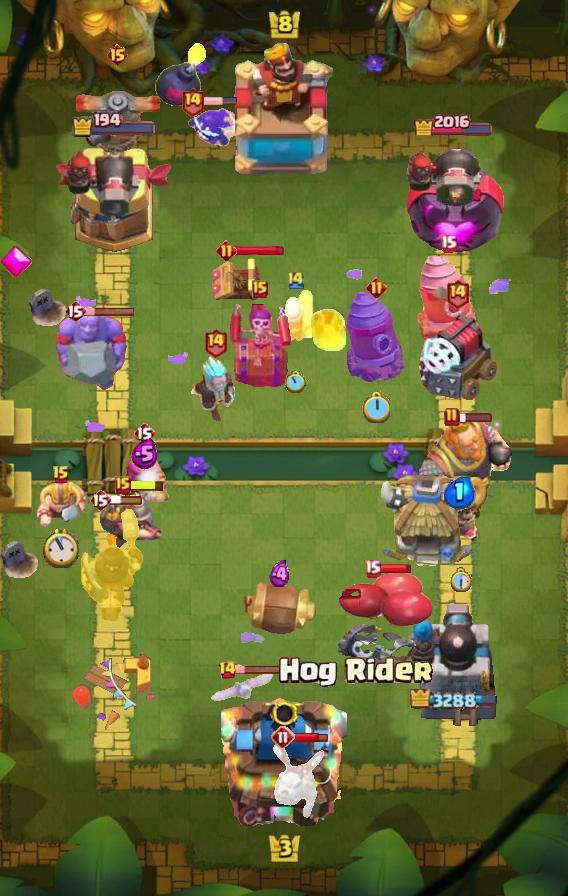archer-queen: (52, 310, 130, 392)
baby-dragon: (154, 40, 208, 108)
bandit: (98, 489, 178, 553)
barbarian: (208, 671, 276, 703)
bomber-evolution: (437, 493, 483, 545)
dark-prince: (72, 66, 162, 152)
electro-spirit: (444, 476, 476, 508), (130, 438, 157, 470), (269, 560, 291, 588)
elixir: (43, 528, 79, 568), (362, 391, 390, 423), (448, 567, 471, 593), (286, 371, 306, 393)
emote: (234, 244, 285, 257), (84, 306, 136, 317), (234, 665, 286, 676), (129, 480, 165, 493), (457, 411, 493, 423), (108, 494, 144, 506), (293, 731, 328, 743), (378, 563, 412, 574), (202, 96, 238, 106)
giant-skeleton: (412, 414, 520, 518)
goblin-brawler: (210, 254, 264, 304)
goblin-giant: (35, 480, 87, 528)
golem: (414, 311, 500, 401)
inferno-dragon: (79, 504, 145, 624)
king-tower: (221, 690, 347, 826), (228, 41, 340, 181)
magic-archer: (415, 251, 481, 349), (346, 290, 406, 384)
mini-pekka: (270, 739, 326, 821)
mortar: (185, 353, 245, 425)
prince: (376, 475, 478, 571)
royal-recruit-evolution: (334, 570, 436, 678)
selected: (71, 111, 157, 138), (411, 688, 498, 712), (414, 112, 495, 137)
skeleton-king-bar: (229, 301, 291, 387)
skeleton-king-skill: (0, 245, 32, 279)
spear-goblin: (186, 106, 236, 148)
text: (179, 86, 204, 117), (204, 326, 229, 357), (446, 279, 470, 309), (271, 725, 295, 749), (106, 43, 129, 67), (64, 299, 86, 323), (133, 421, 155, 445), (89, 488, 111, 512), (215, 239, 236, 261), (366, 278, 387, 299), (286, 269, 306, 291), (218, 660, 237, 680), (52, 465, 70, 485), (439, 234, 456, 253), (364, 559, 381, 578), (444, 407, 460, 427), (252, 280, 268, 298), (115, 476, 131, 494)
the-log: (240, 582, 320, 636)
tombstone: (119, 448, 169, 502), (275, 287, 317, 345)
tower-bar: (53, 138, 175, 256), (401, 138, 505, 256), (408, 599, 498, 731)
valkyrie: (308, 305, 348, 353)
